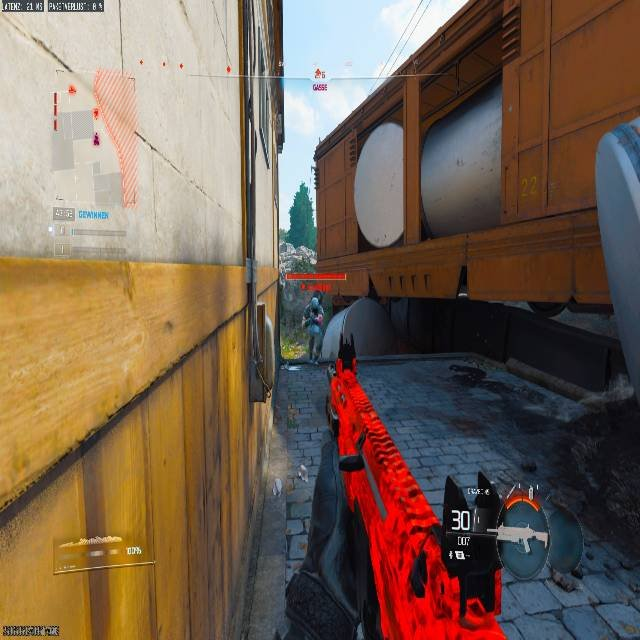head: (304, 297, 327, 324), (309, 296, 320, 306)
player: (302, 295, 324, 364), (296, 463, 307, 483)
